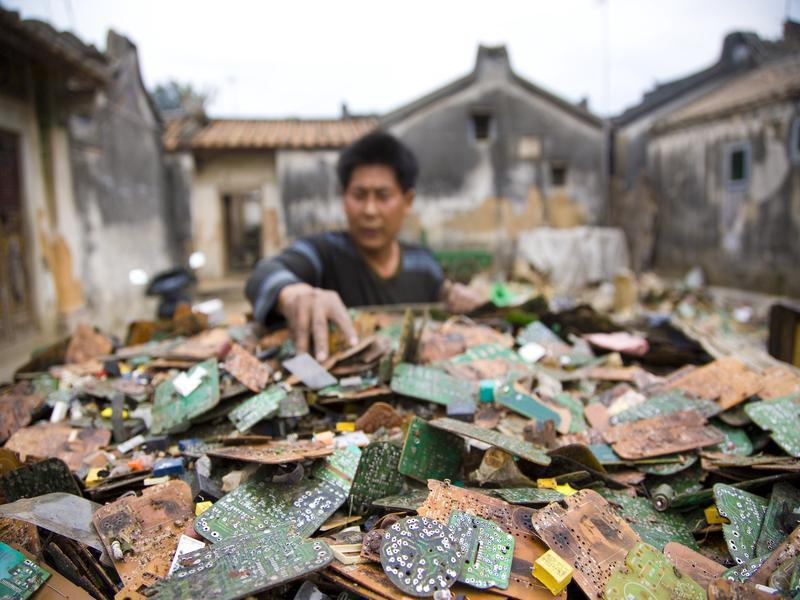circuit_board: (528, 486, 647, 600), (87, 475, 203, 588), (165, 524, 338, 599), (377, 507, 468, 598), (707, 471, 783, 564), (145, 352, 223, 432), (447, 508, 517, 593), (389, 417, 469, 489)
